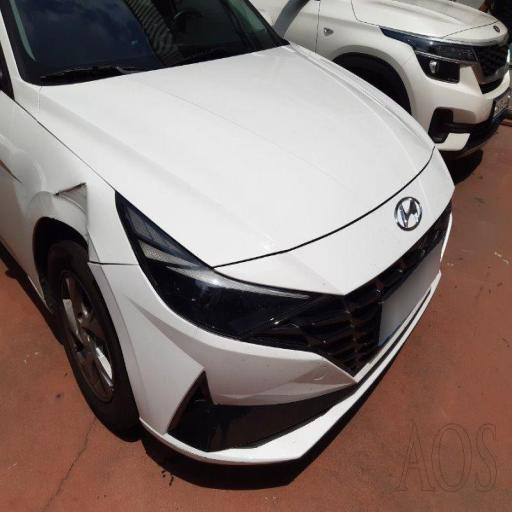broken: (18, 144, 137, 298)
